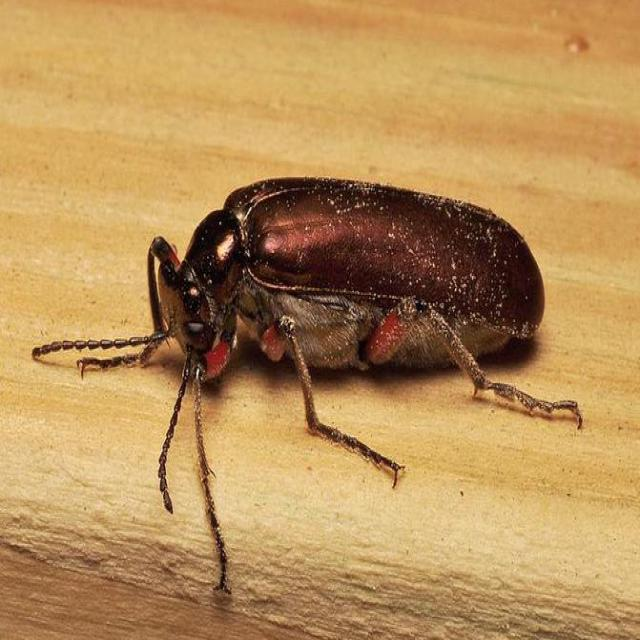BlisterBeetle-Adult-: (17, 147, 590, 599)
